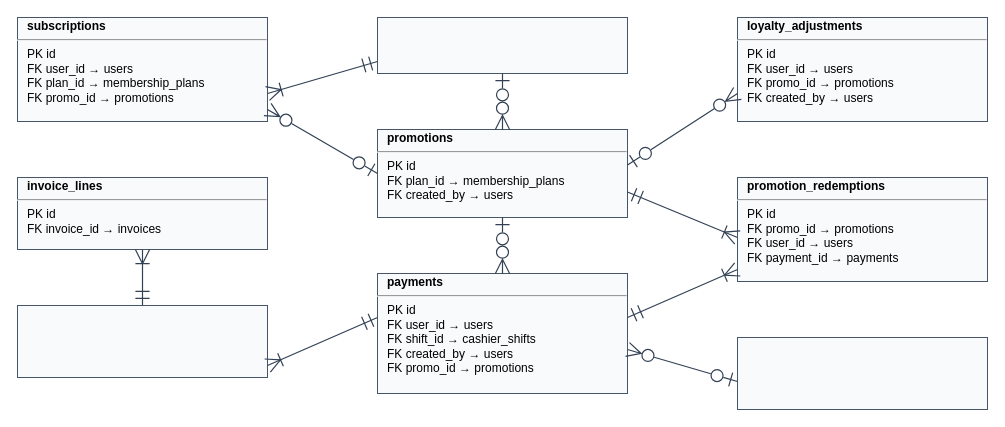
This 1005x427 diagram has some shape labels left out. The shapes that lost their labels are listed below. From the top down, each one's centre as x and y in pixels, then its label:
At (x=502, y=45): "membership_plans PK id".
At (x=142, y=341): "invoices PK id FK payment_id → payments".
At (x=862, y=373): "cashier_shifts PK id FK receptionist_id → users".
